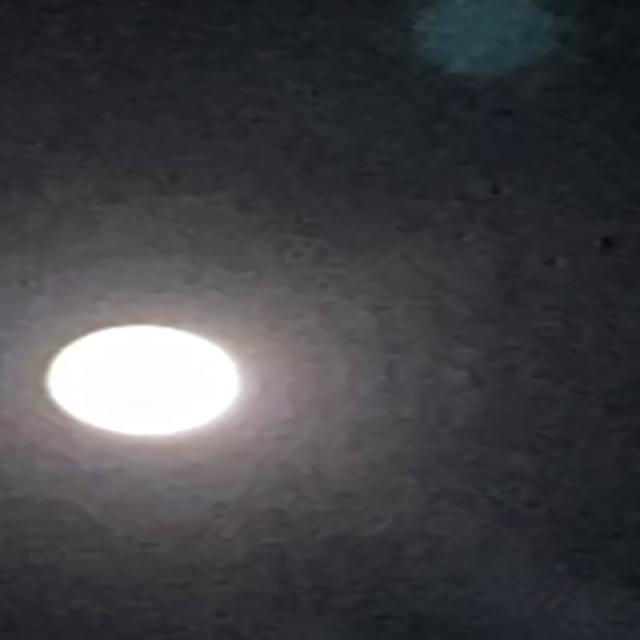moon: (84, 308, 314, 452)
